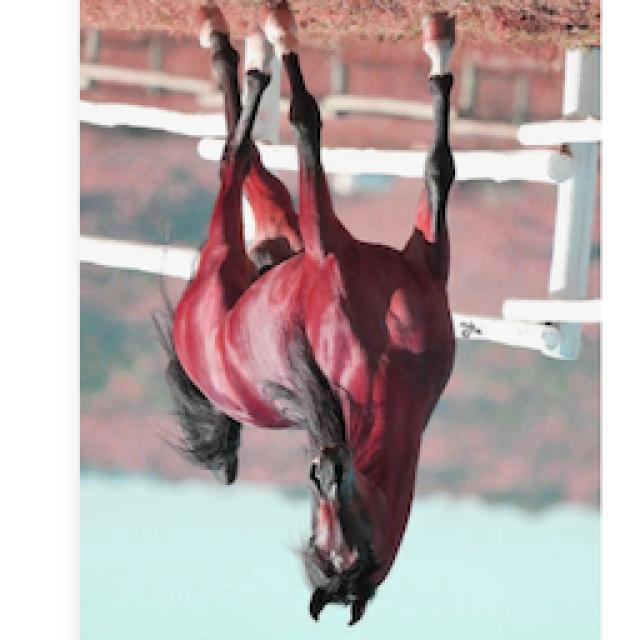Horse: (150, 2, 470, 630)
